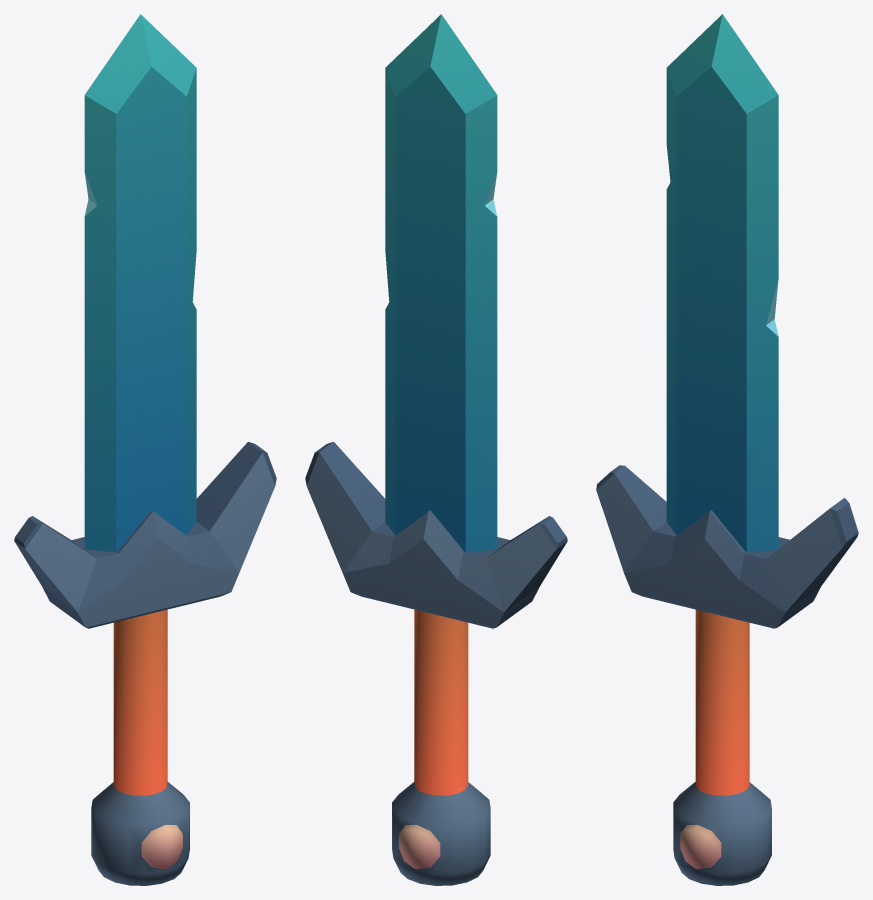
Rendered from sword-by-minipoly-2m3WRebbSY.glb.
3 renders of one model, left to right at view 1: azimuth 30°, elevation 25°; view 2: azimuth 150°, elevation 25°; view 3: azimuth 330°, elevation 25°, orthographic.
Parts seen in each view (by area): view 1: Sword; view 2: Sword; view 3: Sword.
Part boxes in pixels (<box>): Sword: <box>14,14,276,885</box>; Sword: <box>305,14,567,885</box>; Sword: <box>596,14,858,885</box>.
Bounding box in the file's own units: 0.4344 × 1.41 × 0.1645.
Materials: 1 (1 with a texture image).
